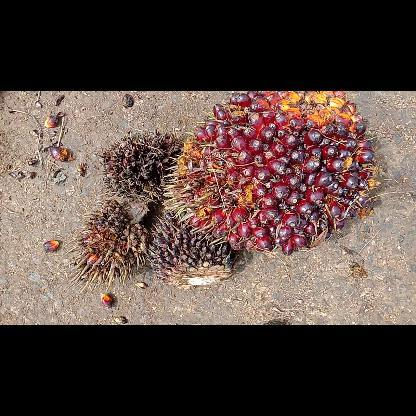TBS abnormal: (65, 198, 153, 294), (98, 126, 188, 206), (149, 213, 241, 287)
TBS masak: (162, 91, 380, 255)
